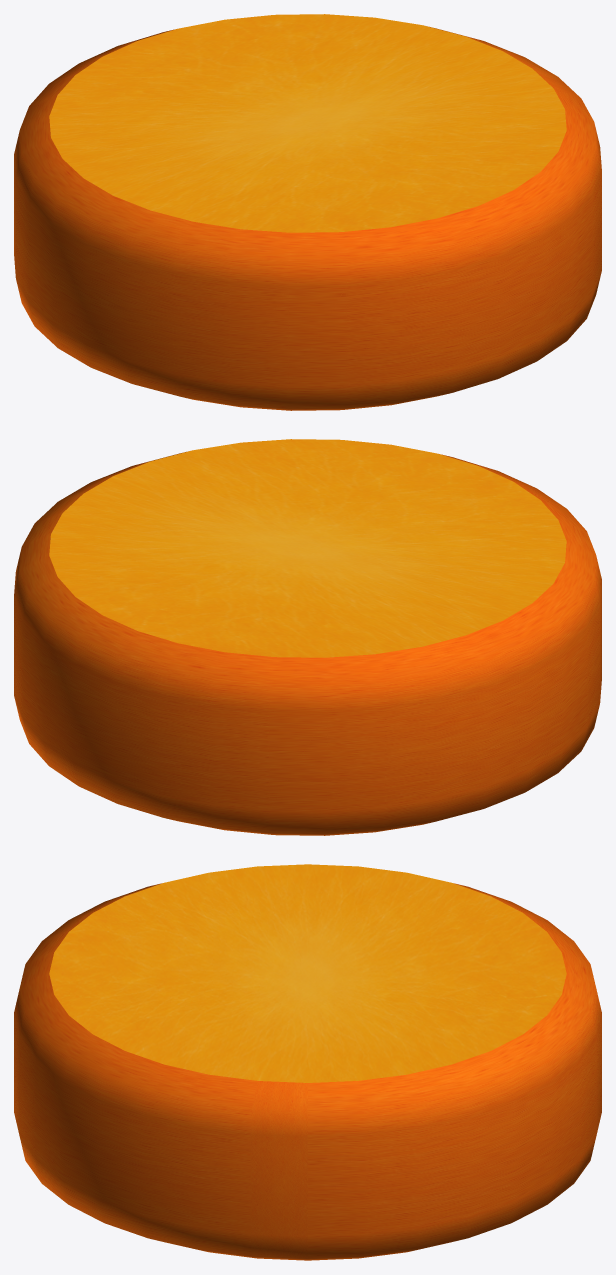
The model's file is apricot_slice-DmJIjpOs.glb.
The picture shows the model from 3 angles, top to bottom: view 1: azimuth 30°, elevation 25°; view 2: azimuth 150°, elevation 25°; view 3: azimuth 270°, elevation 25°; orthographic projection.
Visible parts, largest first — view 1: FLC_apricot_slice; view 2: FLC_apricot_slice; view 3: FLC_apricot_slice.
Part boxes in pixels (x1=…): FLC_apricot_slice: x1=14, y1=14, x2=601, y2=410; FLC_apricot_slice: x1=14, y1=439, x2=601, y2=835; FLC_apricot_slice: x1=14, y1=864, x2=601, y2=1260.
Bounding box in the file's own units: 0.24 × 0.08 × 0.24.
1 material, 1 textured.
